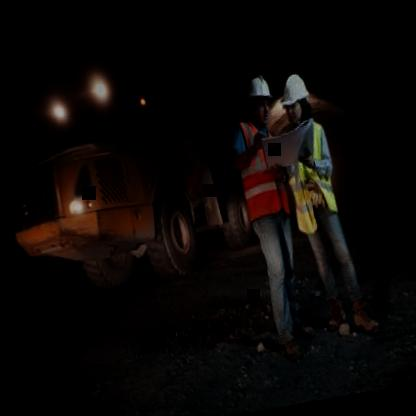helmet: (277, 67, 315, 131), (239, 69, 280, 128)
